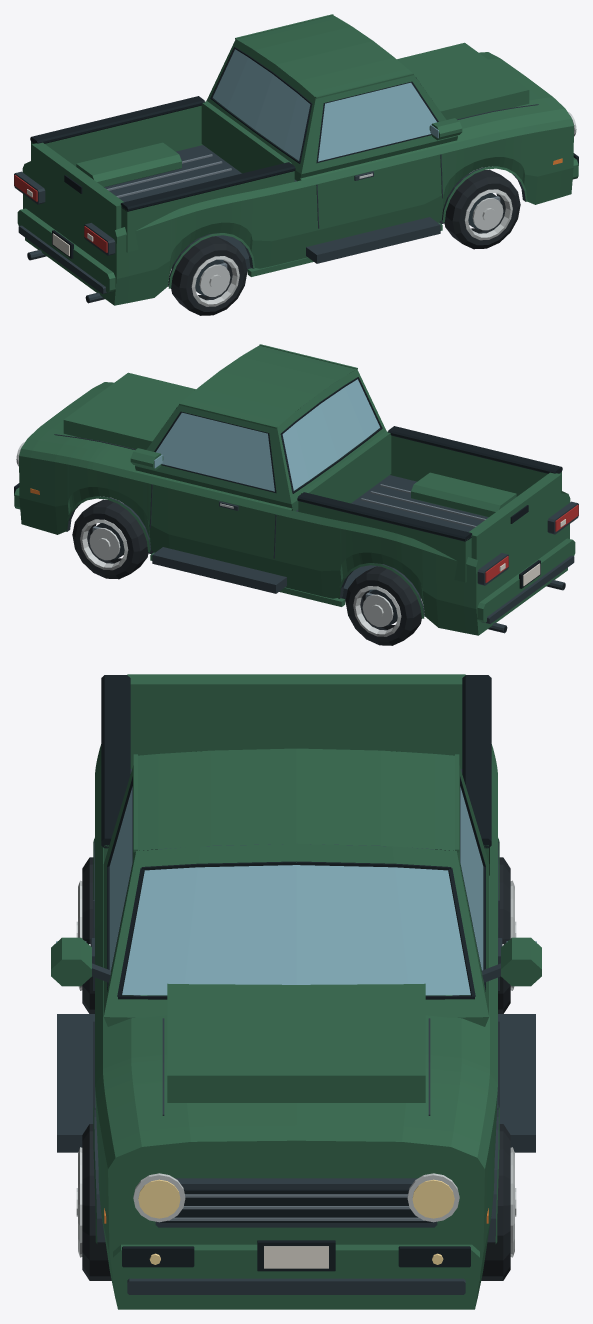
Rendered from b03_vintage_farm_pickup.glb.
3 renders of one model, top to bottom at view 1: azimuth 30°, elevation 25°; view 2: azimuth 150°, elevation 25°; view 3: azimuth 270°, elevation 25°, orthographic. The views are drawn at different scales.
Parts seen in each view (by area): view 1: b03_vintage_farm_pickup; view 2: b03_vintage_farm_pickup; view 3: b03_vintage_farm_pickup.
Boxes of the visible parts, x1=… form: b03_vintage_farm_pickup: x1=14, y1=14, x2=578, y2=315; b03_vintage_farm_pickup: x1=14, y1=344, x2=578, y2=645; b03_vintage_farm_pickup: x1=51, y1=674, x2=541, y2=1309.
Bounding box in the file's own units: 5.1 × 1.88 × 2.27.
